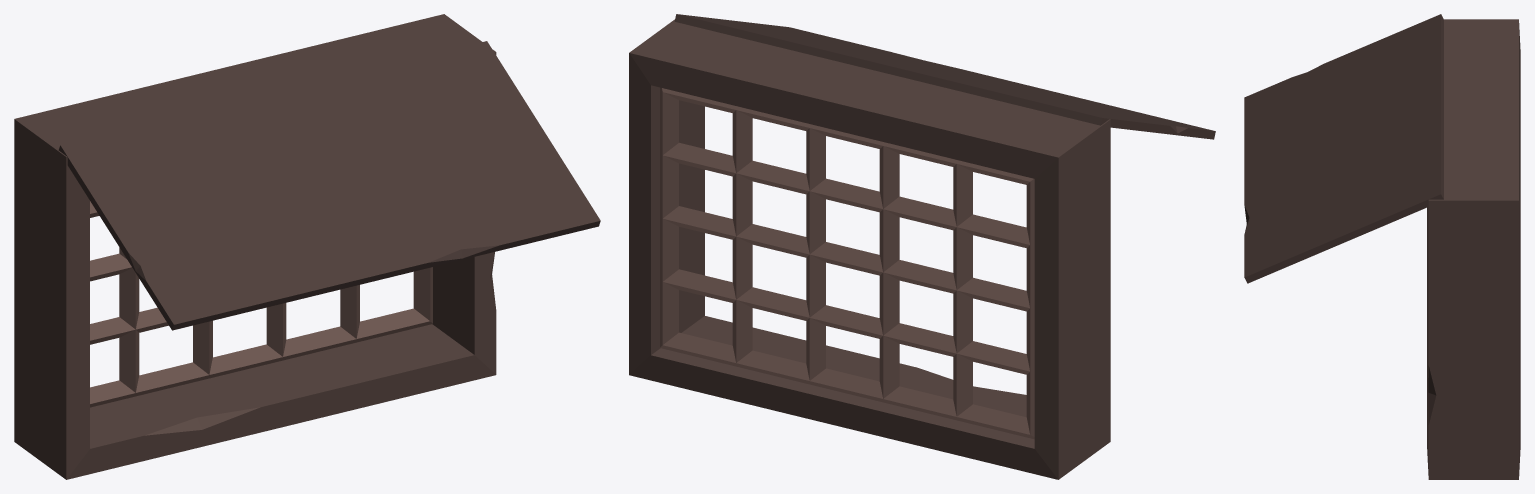
File: SM_Env_Window_03.fbx
The picture shows the model from 3 angles, left to right: view 1: azimuth 30°, elevation 25°; view 2: azimuth 150°, elevation 25°; view 3: azimuth 270°, elevation 25°; orthographic projection. The views are drawn at different scales.
Visible parts, largest first — view 1: SM_Env_Window_03; view 2: SM_Env_Window_03; view 3: SM_Env_Window_03.
Boxes of the visible parts, box(x1,y1,x2,y2) form: SM_Env_Window_03: box(14, 14, 600, 479); SM_Env_Window_03: box(629, 14, 1215, 479); SM_Env_Window_03: box(1244, 14, 1520, 479).
Size of the model in its own units: 98.48 by 72.06 by 63.32.
1 material, 1 textured.
